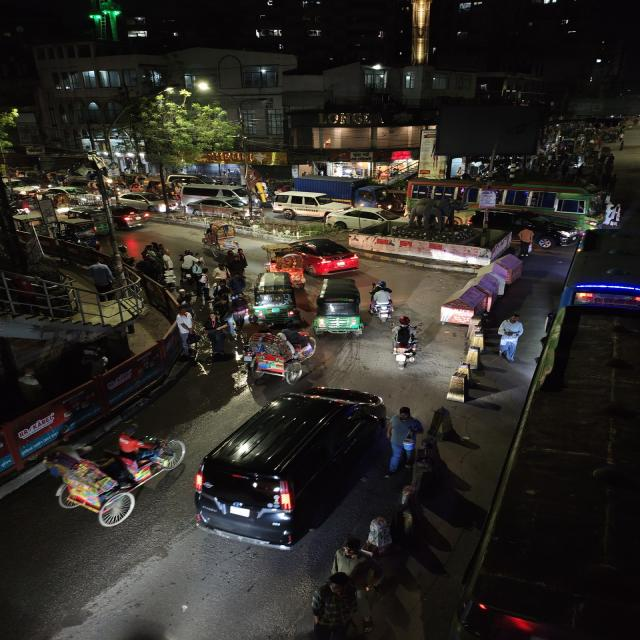bus: (509, 183, 605, 234)
car: (188, 386, 387, 556), (265, 236, 365, 276), (270, 187, 338, 225), (183, 185, 253, 217), (328, 204, 386, 232), (117, 191, 181, 213), (104, 204, 148, 231)
cng: (311, 277, 364, 341), (249, 271, 300, 323)
motorcycle: (388, 316, 426, 370), (367, 280, 399, 324)
pedestrian: (492, 314, 526, 362), (516, 225, 538, 257)
rickshaw: (43, 432, 189, 532), (233, 325, 319, 385), (195, 220, 243, 255), (270, 250, 309, 284)
truck: (302, 177, 387, 205)
